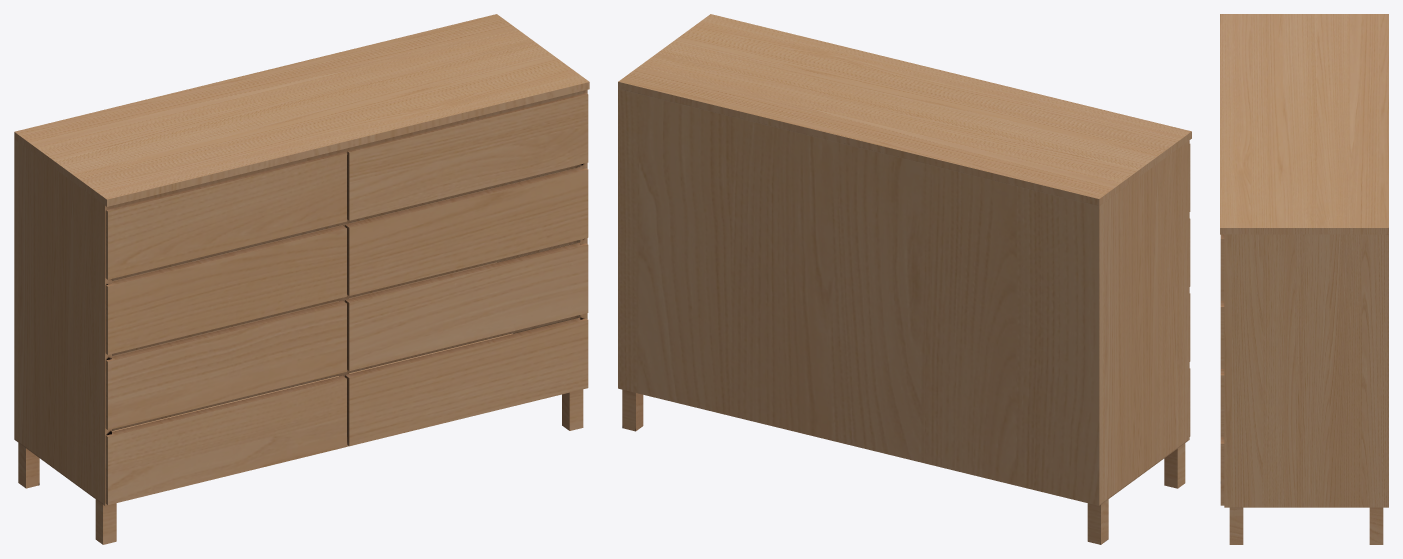
File: mj_chest01.obj
The picture shows the model from 3 angles, left to right: view 1: azimuth 30°, elevation 25°; view 2: azimuth 150°, elevation 25°; view 3: azimuth 270°, elevation 25°; orthographic projection. The views are drawn at different scales.
Visible parts, largest first — view 1: mj_chest01.001_Cube.045; view 2: mj_chest01.001_Cube.045; view 3: mj_chest01.001_Cube.045.
Part boxes in pixels (bbox=[...]): mj_chest01.001_Cube.045: bbox=[14, 14, 589, 544]; mj_chest01.001_Cube.045: bbox=[618, 14, 1191, 544]; mj_chest01.001_Cube.045: bbox=[1220, 14, 1388, 544].
Bounding box in the file's own units: 120 × 83 × 40.
1 material, 1 textured.
